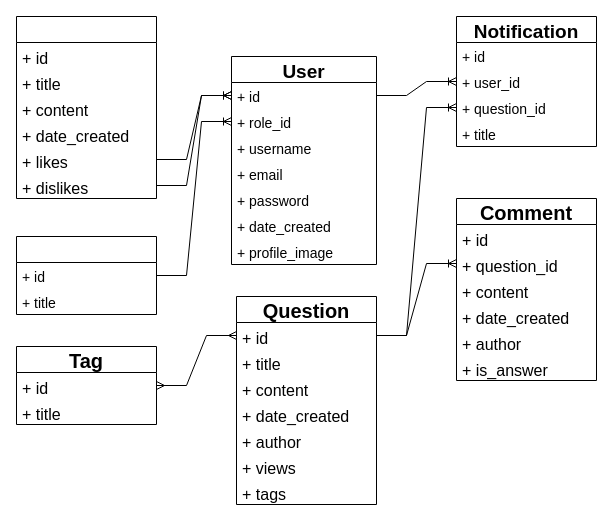
Image size: 613x521. Some labels were removed from this diagram. The box of each missing label's shape, as (x1, y1, x2, y2) in pixels:
Article: (16, 16, 156, 198)
Role: (16, 236, 156, 314)
